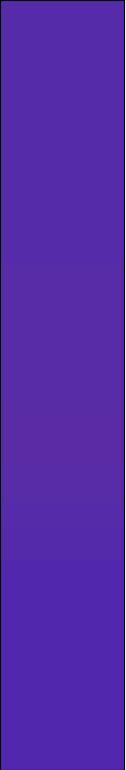safe: (10, 7, 114, 762)
